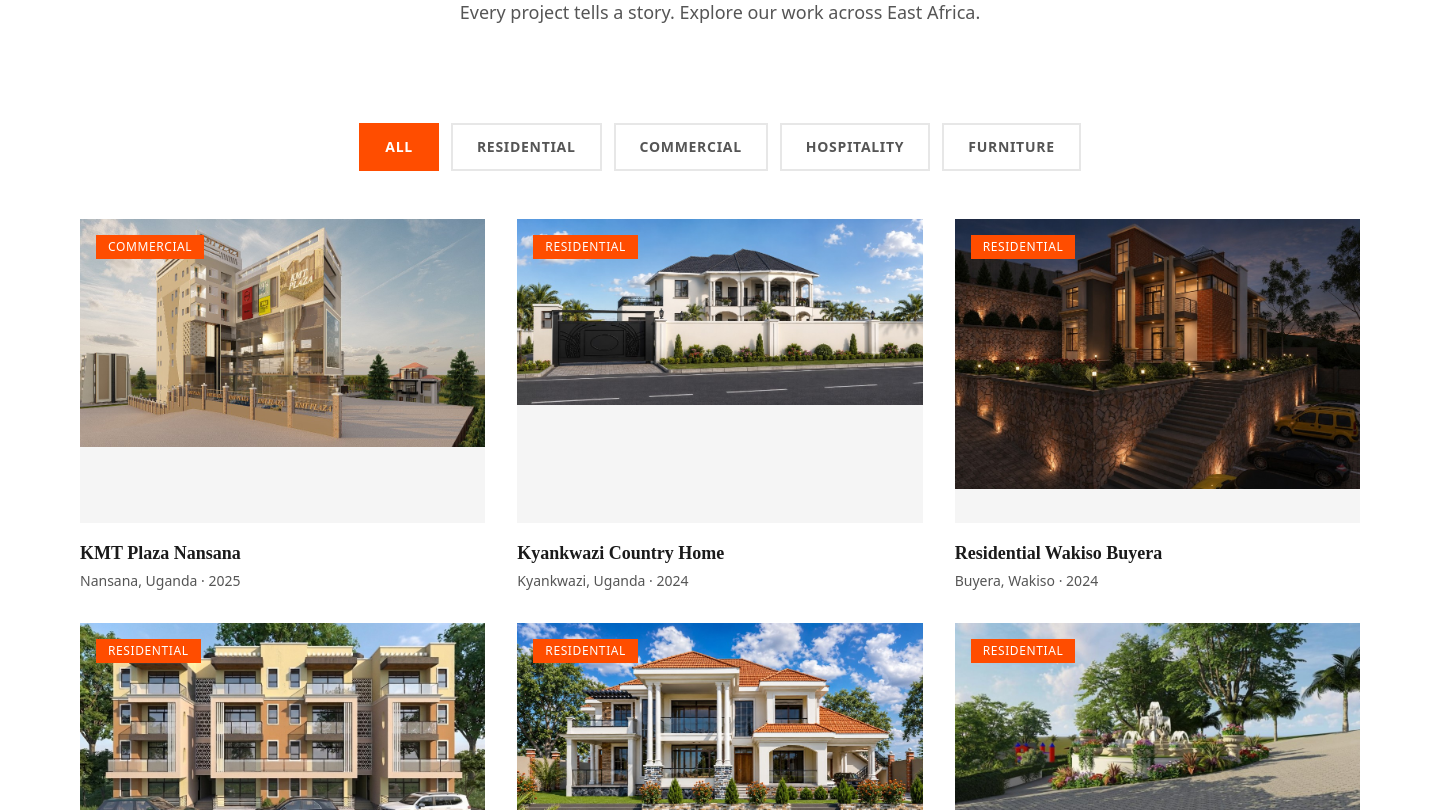
Portfolio › shows project detail when a project is clicked
(page scrolled)
Click the text "KMT Plaza Nansana" at (283, 405), box [80, 219, 485, 591]
(page scrolled)
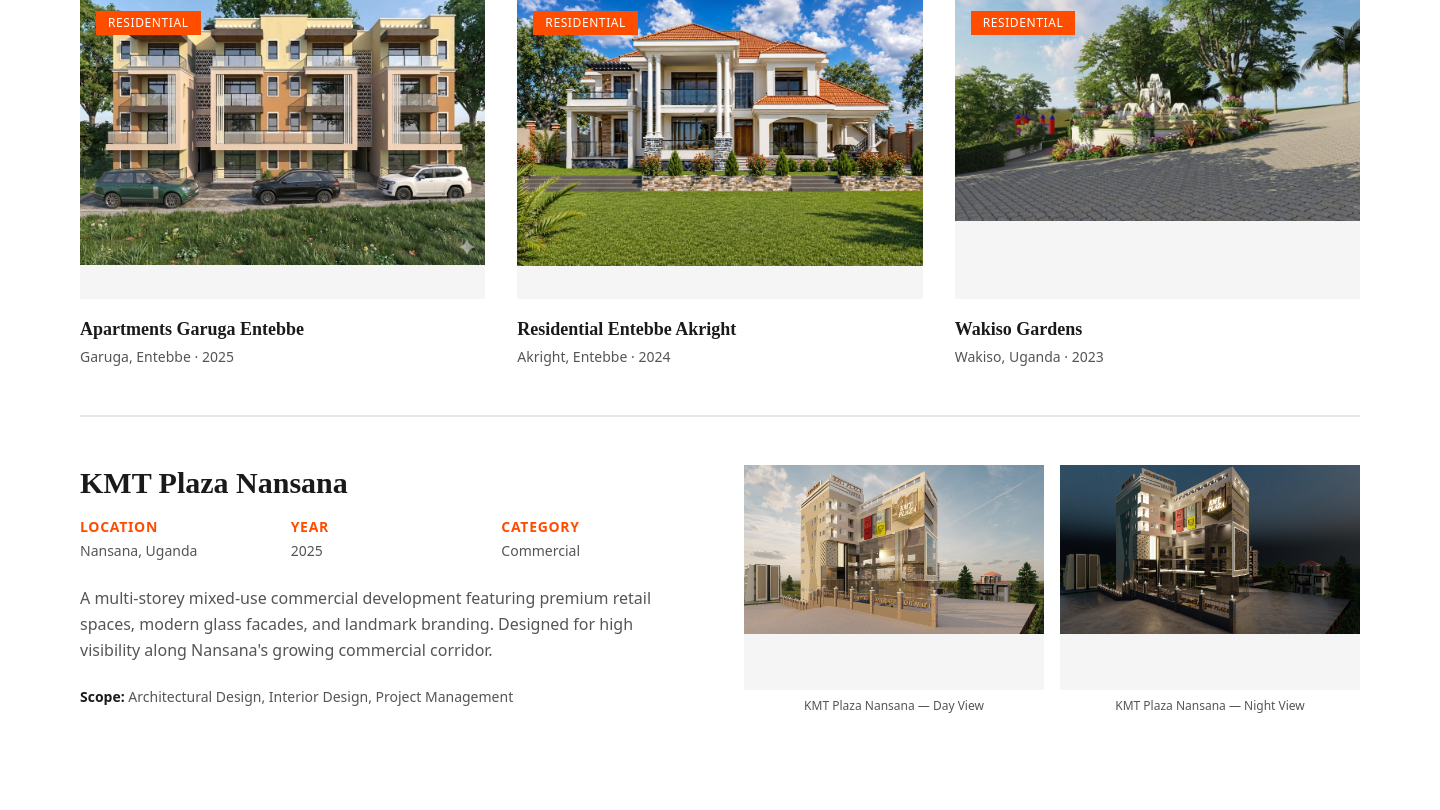
Now the text "multi-storey mixed-use commercial development" is shown, box [80, 587, 651, 661]
Now the text "Architectural Design, Interior Design, Project Management" is shown, box [128, 687, 513, 706]
Now the text "KMT Plaza Nansana — Night View" is shown, box [1115, 697, 1305, 714]
